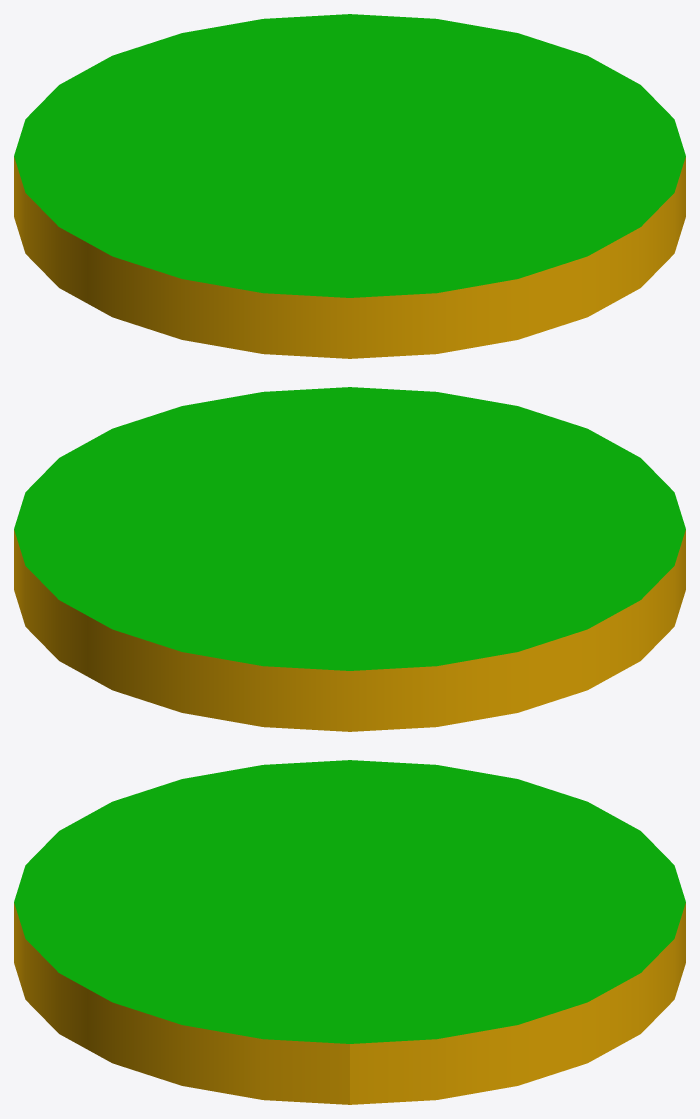
The model's file is piattaforma animaletti.fbx.
3 renders of one model, top to bottom at view 1: azimuth 30°, elevation 25°; view 2: azimuth 150°, elevation 25°; view 3: azimuth 270°, elevation 25°, orthographic.
Visible parts, largest first — view 1: prim0; view 2: prim0; view 3: prim0.
Part boxes in pixels (x1,y1,x2,y2): prim0: [14, 14, 685, 358]; prim0: [14, 387, 685, 731]; prim0: [14, 760, 685, 1104].
Bounding box in the file's own units: 5000 × 500 × 5000.
